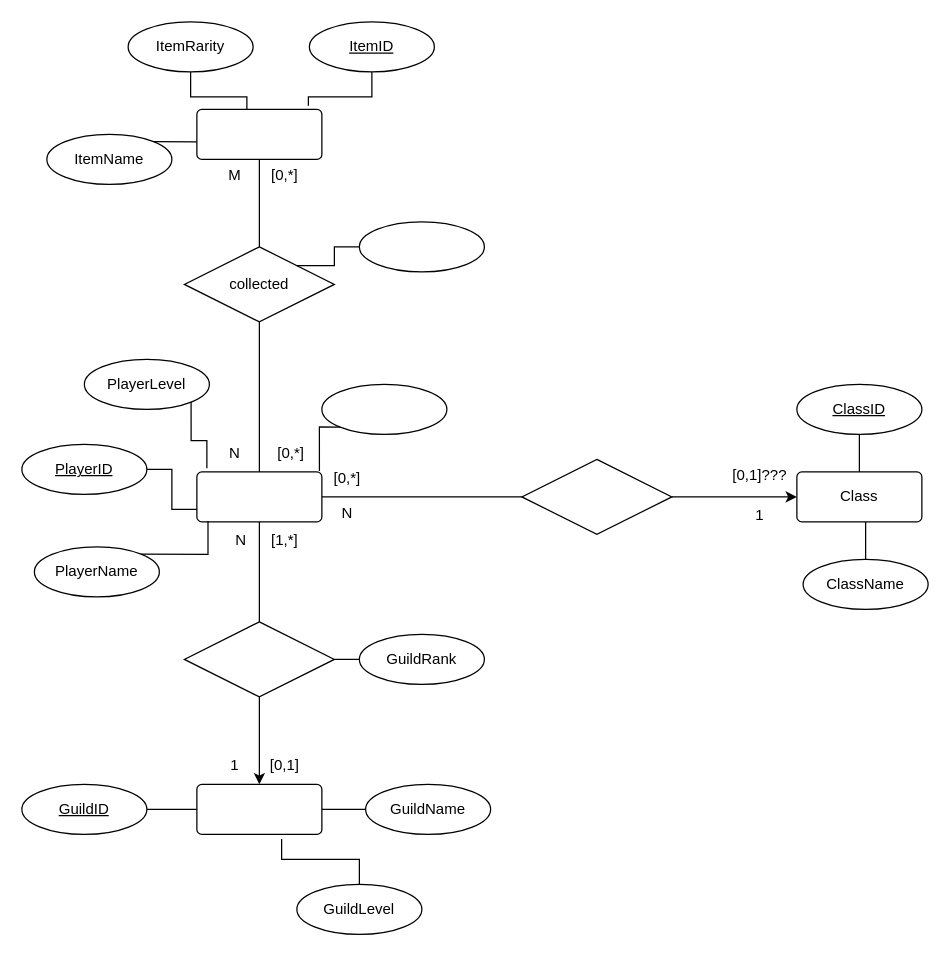
The diagram is 950 pixels wide and 956 high, and some of its shapes have lost their labels. The box of each missing label's shape, as (x1, y1, x2, y2) in pixels:
Guild: (196, 783, 322, 834)
guild_member: (183, 621, 334, 697)
Item: (196, 108, 322, 159)
ItemAmount: (358, 221, 484, 272)
Player: (196, 471, 322, 522)
PlayerGold: (321, 383, 447, 434)
selected_class: (521, 458, 672, 534)
